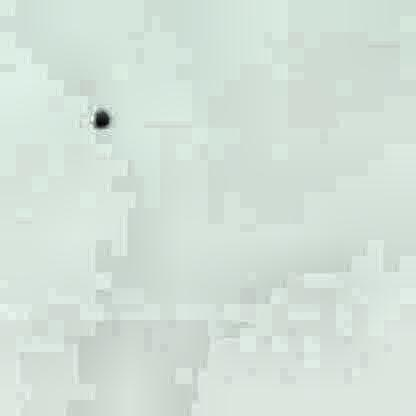golfball: (90, 104, 108, 123)
